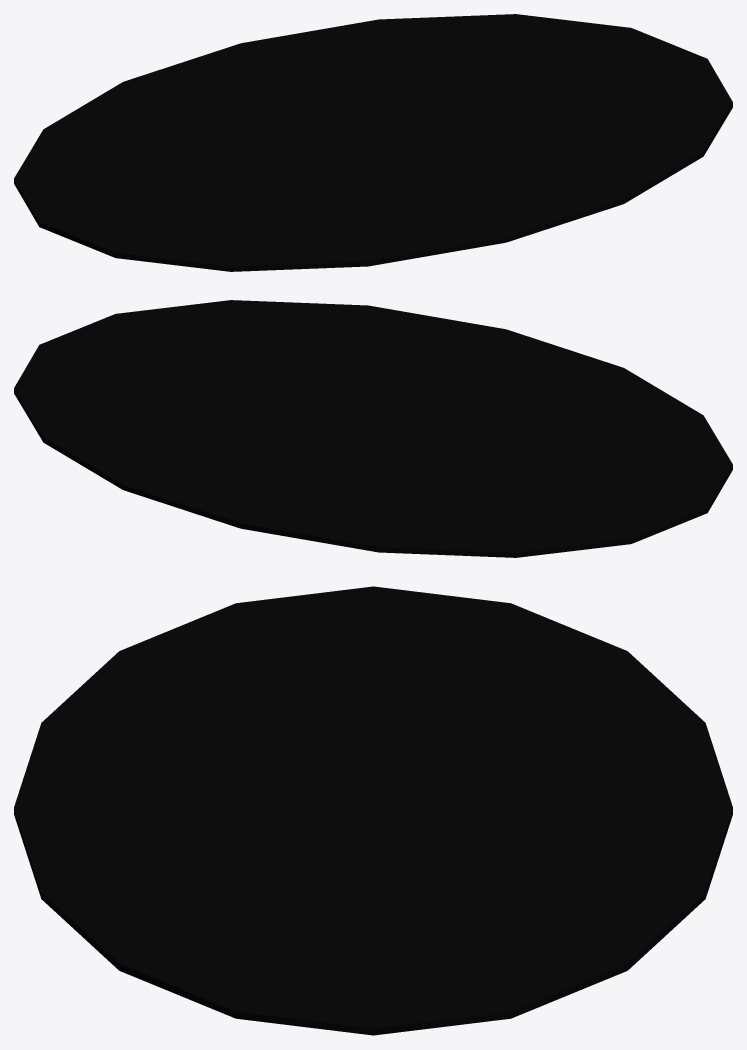
The model's file is SM_rug_braided.fbx.
The picture shows the model from 3 angles, top to bottom: view 1: azimuth 30°, elevation 25°; view 2: azimuth 150°, elevation 25°; view 3: azimuth 270°, elevation 25°; orthographic projection. The views are drawn at different scales.
Parts seen in each view (by area): view 1: rug_braided; view 2: rug_braided; view 3: rug_braided.
Boxes of the visible parts, <box> form: rug_braided: <box>14,14,732,271</box>; rug_braided: <box>14,300,732,557</box>; rug_braided: <box>14,586,732,1035</box>.
Bounding box in the file's own units: 1.6 × 0.012 × 1.1.
